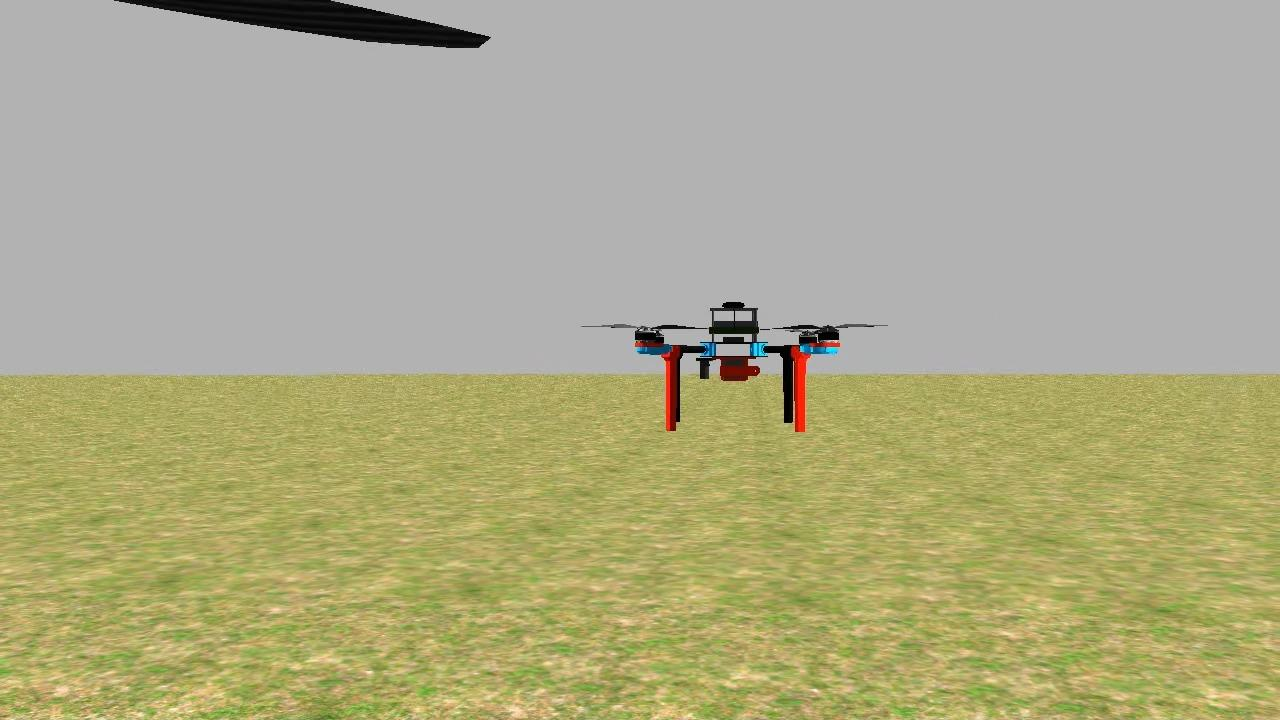UAV: (612, 285, 858, 440)
